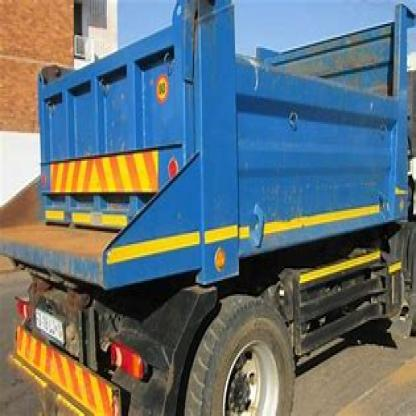dump_truck: (32, 30, 414, 398)
